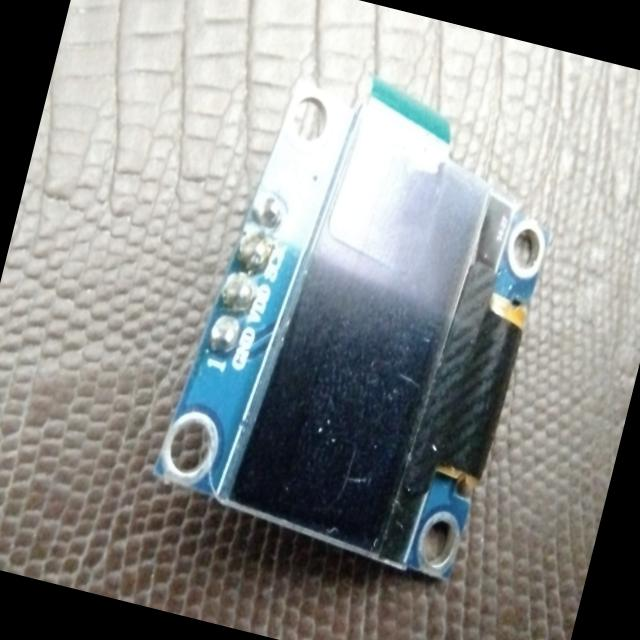oled: (137, 42, 592, 612)
